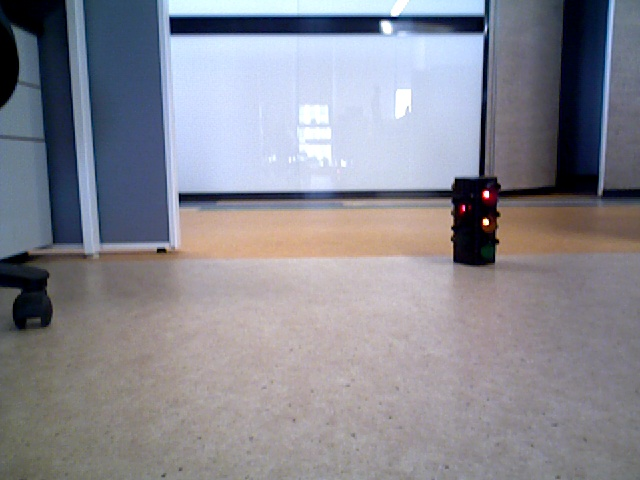red: (454, 180, 492, 263)
